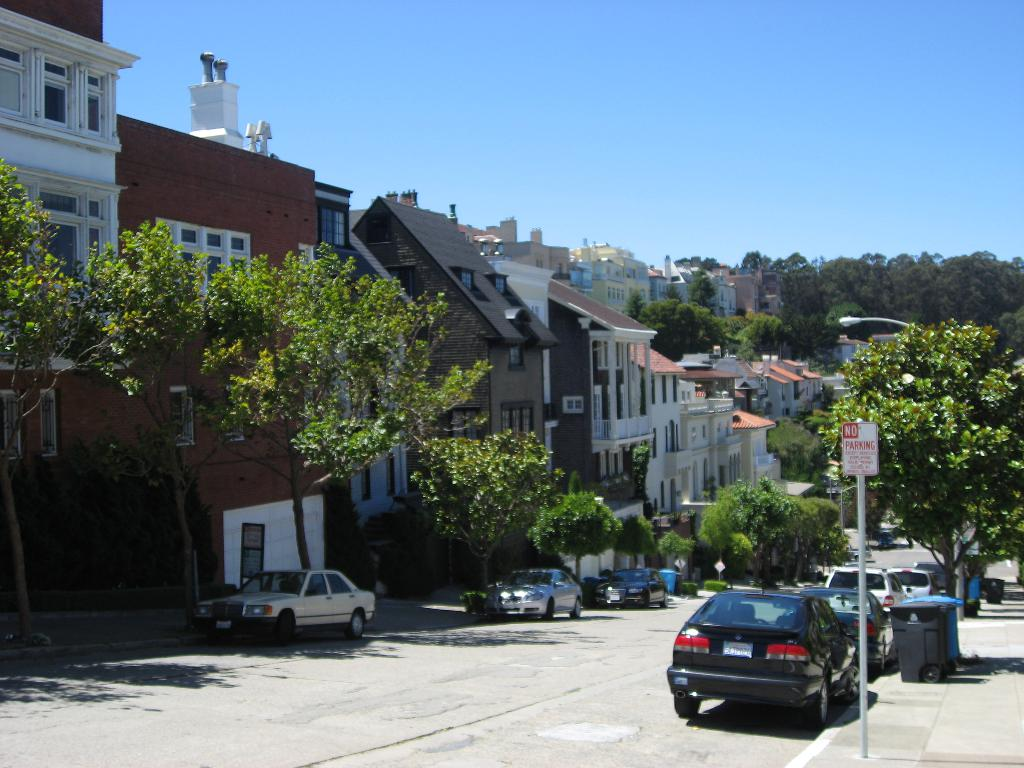car: (650, 555, 879, 735), (178, 548, 410, 657), (789, 572, 893, 666), (470, 555, 590, 620), (831, 546, 903, 627), (596, 554, 674, 618), (887, 557, 946, 606)
